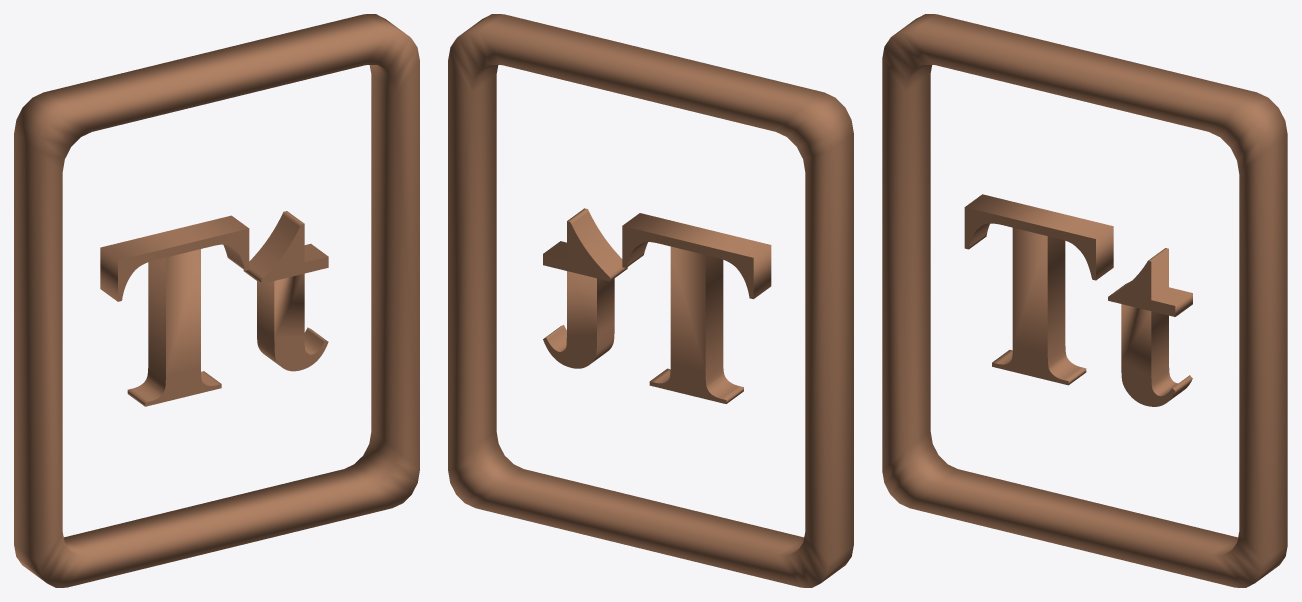
The model's file is Letter_T.gltf.
3 renders of one model, left to right at view 1: azimuth 30°, elevation 25°; view 2: azimuth 150°, elevation 25°; view 3: azimuth 330°, elevation 25°, orthographic.
Visible parts, largest first — view 1: Letters.021; view 2: Letters.021; view 3: Letters.021.
Part boxes in pixels (<box>): Letters.021: <box>14,14,419,587</box>; Letters.021: <box>448,14,853,587</box>; Letters.021: <box>882,14,1287,587</box>.
Size of the model in its own units: 1.25 by 1.49 by 0.1418.
